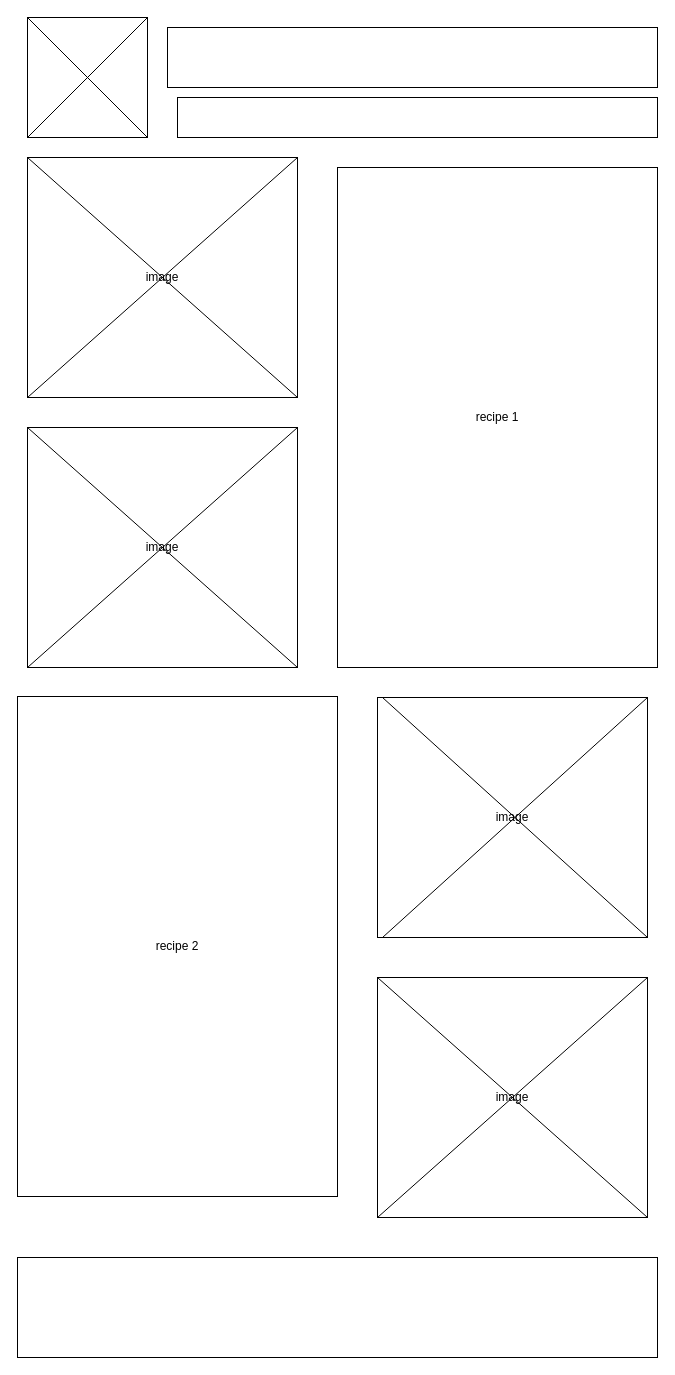
This 675x1375 diagram has some shape labels left out. The shapes that lost their labels are listed below. From the top down, each one's centre as x and y in pixels, then its label:
At (412,57): "header".
At (417,117): "nav".
At (337,1307): "footer".
